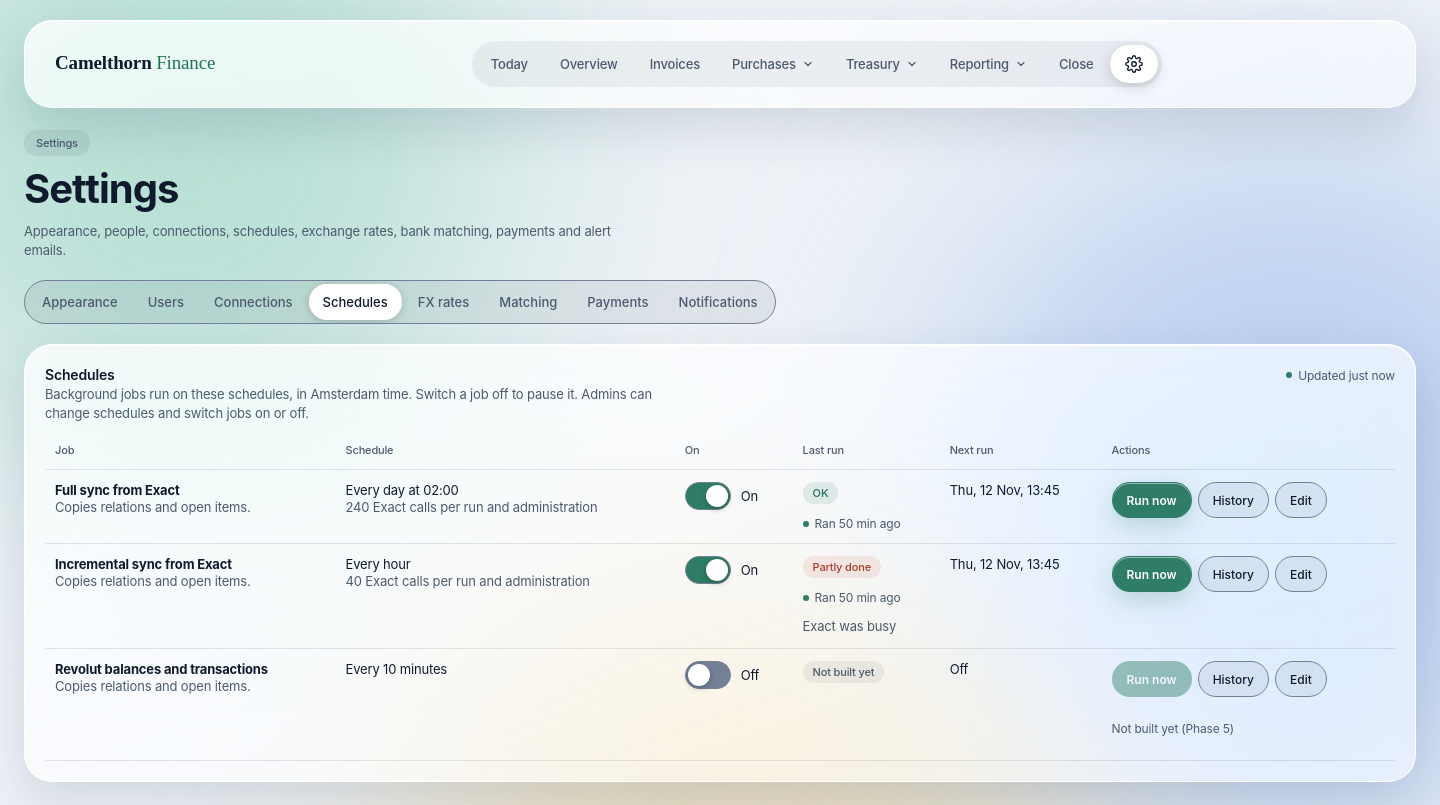
Settings, Schedules › switching and running › the switch sends enabled and says what happened
Expected: the text "Full sync from Exact" is shown, [55, 482, 180, 498]
Click the switch named "Full sync from Exact on". click: [708, 496]
box: [685, 482, 731, 510]
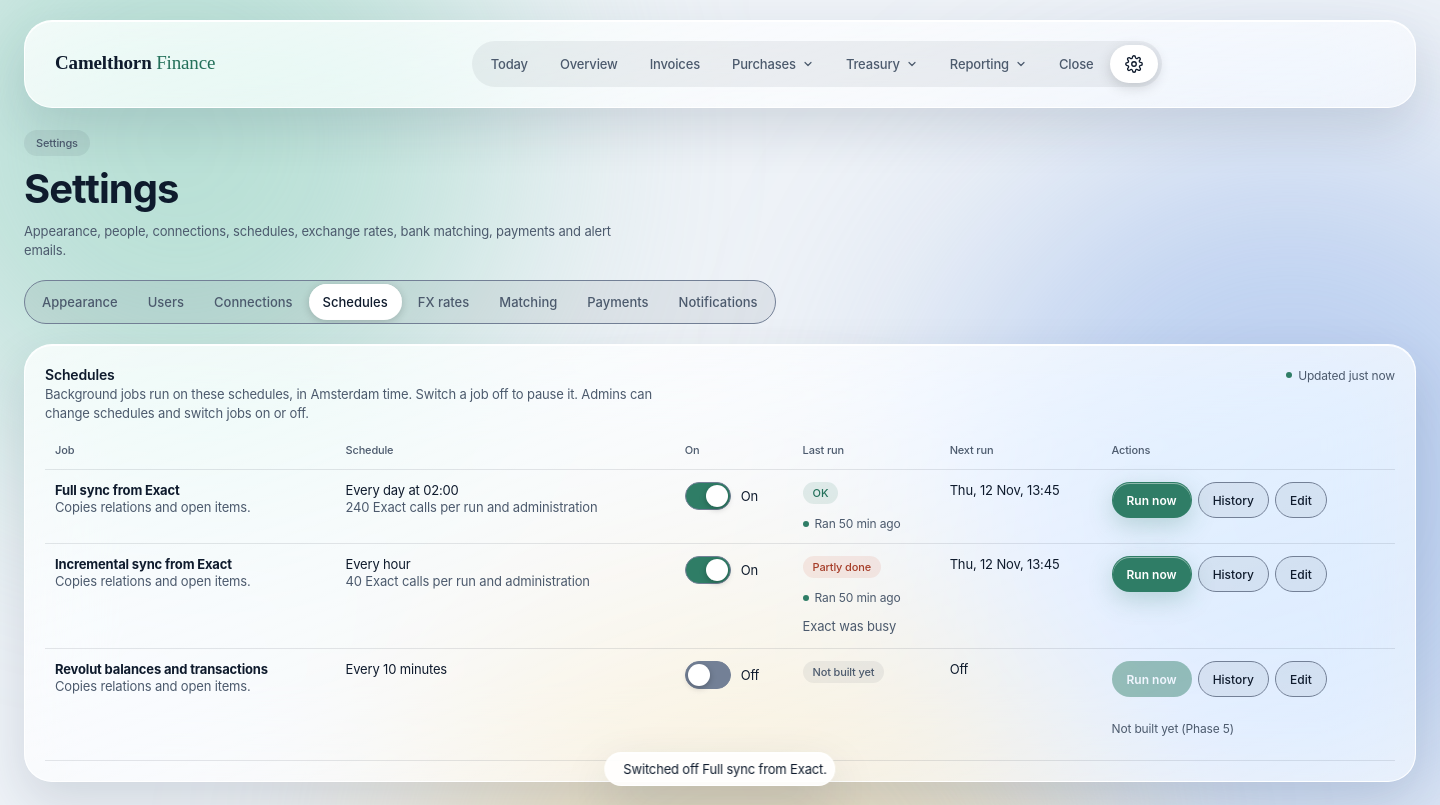
Now the text "Switched off Full sync from Exact." is shown, box [623, 761, 827, 777]
